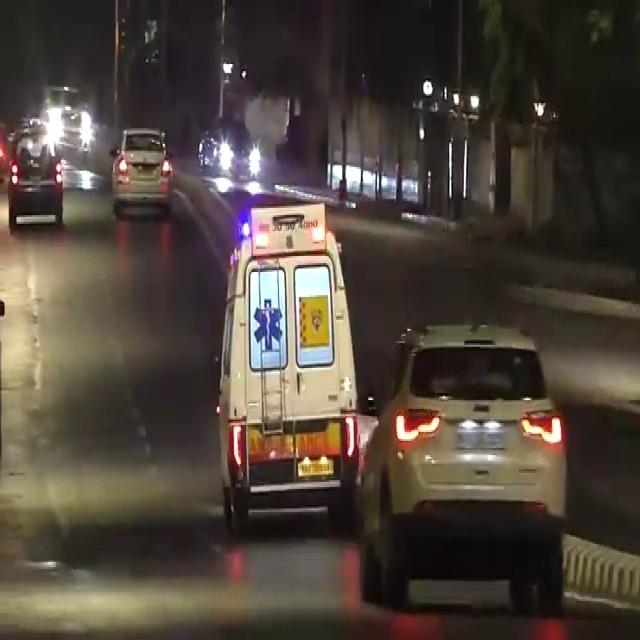ambulance: (218, 194, 364, 501)
